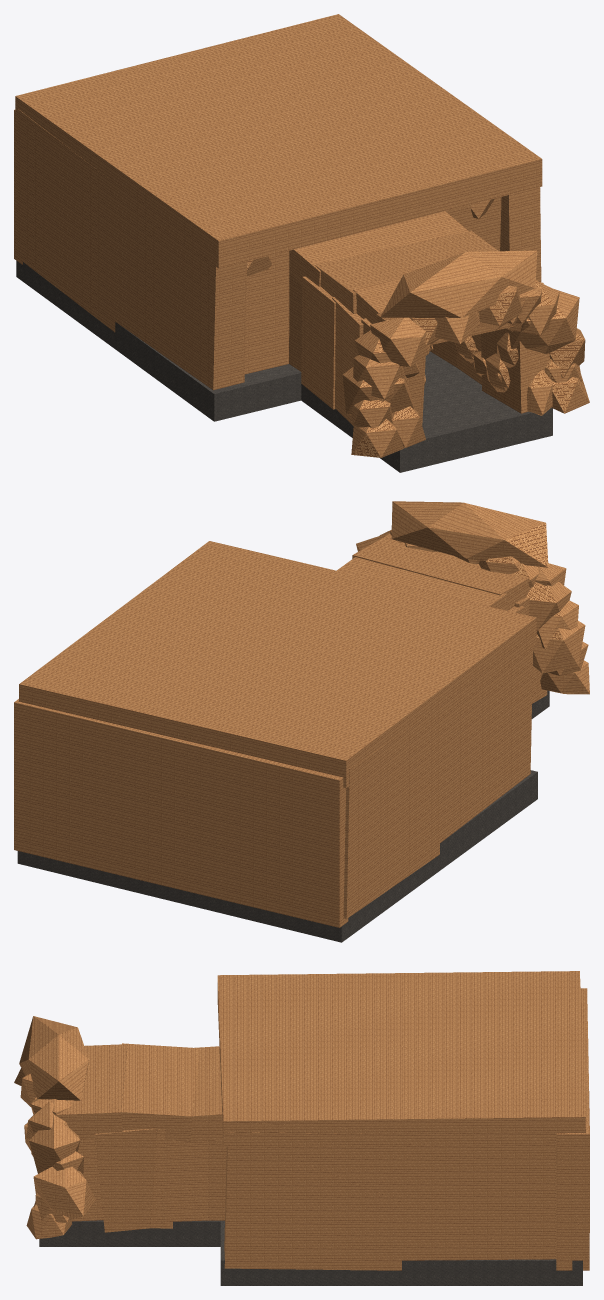
File: cave_den_sand.glb
3 renders of one model, top to bottom at view 1: azimuth 30°, elevation 25°; view 2: azimuth 150°, elevation 25°; view 3: azimuth 270°, elevation 25°, orthographic. The views are drawn at different scales.
Visible parts, largest first — view 1: Body.001; view 2: Body.001; view 3: Body.001.
Boxes of the visible parts, x1,y1,x2,y2 form: Body.001: (14, 14, 589, 472); Body.001: (14, 501, 589, 942); Body.001: (14, 971, 589, 1285).
Bounding box in the file's own units: 12.64 × 7.06 × 20.66.
3 materials, 2 textured.
